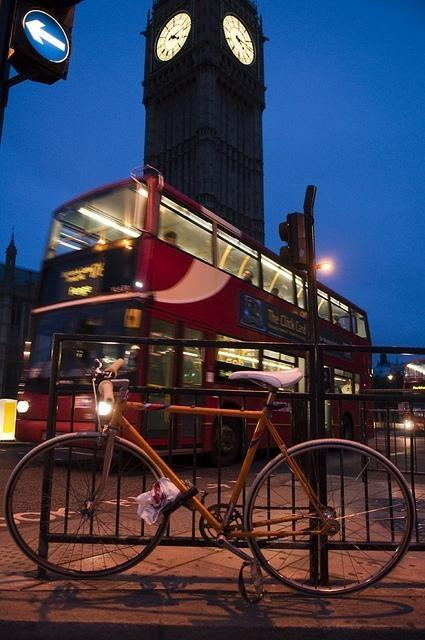bicycle: (5, 352, 416, 596)
bus: (13, 180, 374, 464)
